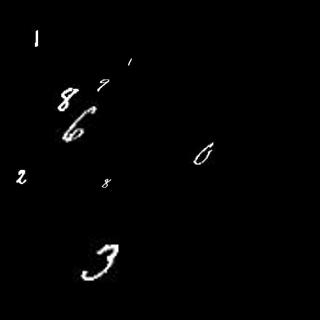eight: (57, 85, 82, 113), (99, 175, 113, 190)
nine: (96, 77, 109, 94)
one: (33, 27, 41, 47), (126, 55, 132, 67)
six: (61, 106, 99, 144)
three: (82, 241, 124, 282)
two: (14, 167, 27, 187)
zero: (188, 142, 215, 167)
